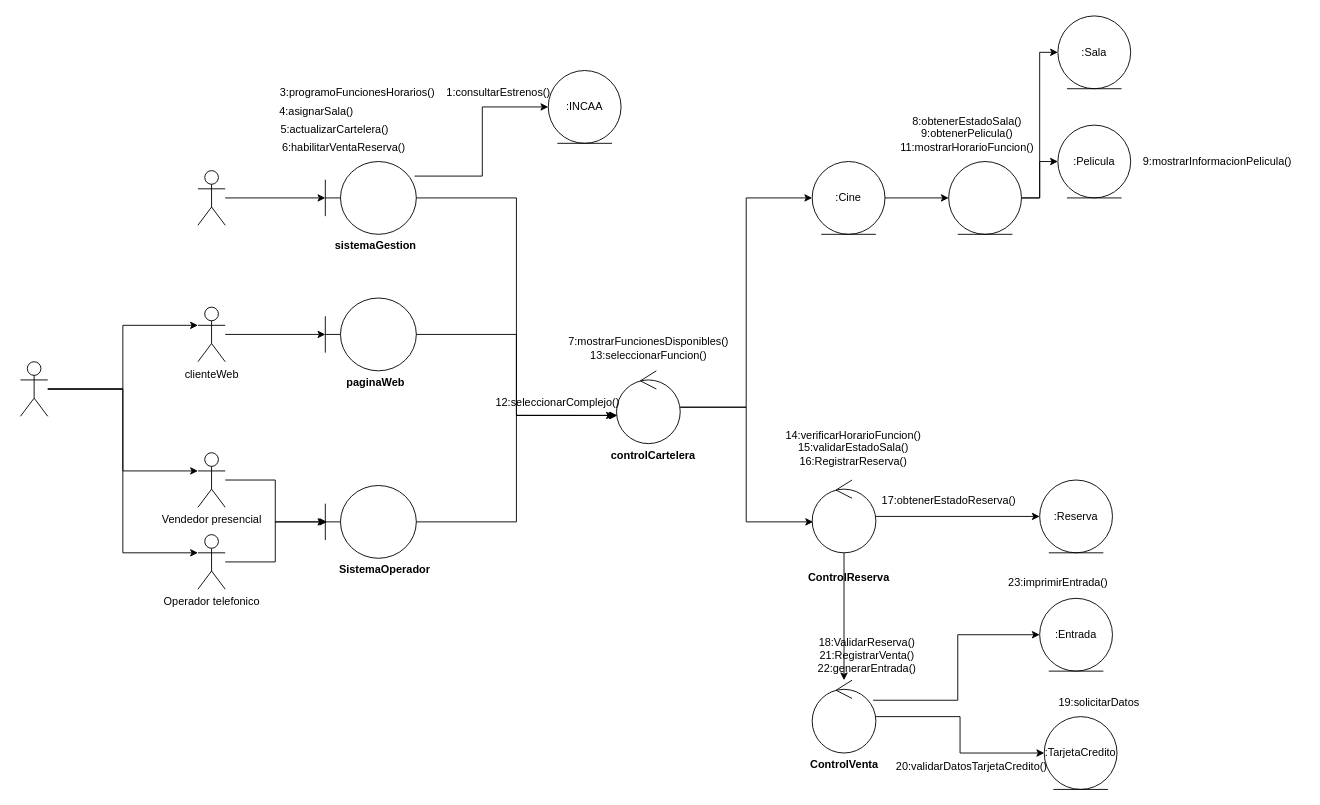
The diagram is 1320 pixels wide and 805 high, and some of its shapes have lost their labels. Here are the shapes that lost their labels. From the top down, the box of each, then its label:
(197, 170, 225, 225): Administracion
(948, 161, 1021, 234): :Funcion
(20, 361, 48, 416): Usuario
